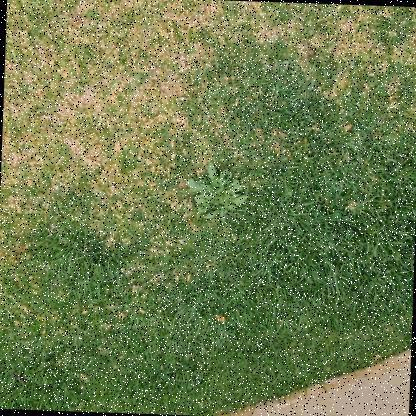Weeds: (180, 160, 249, 224)
